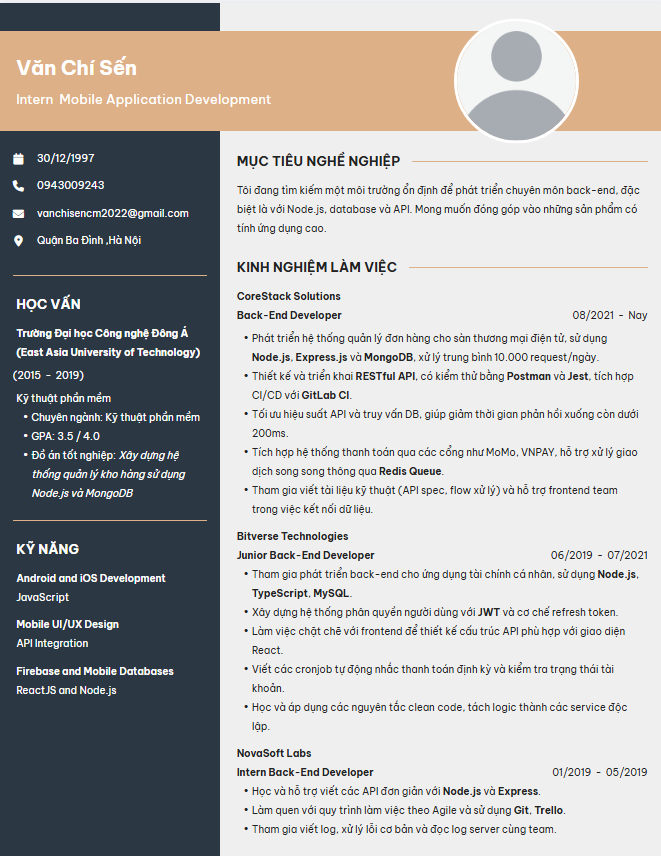address: (7, 230, 158, 255)
gpa: (17, 429, 104, 444)
level: (11, 82, 57, 110)
position: (57, 88, 279, 113)
skill: (9, 537, 194, 721)
